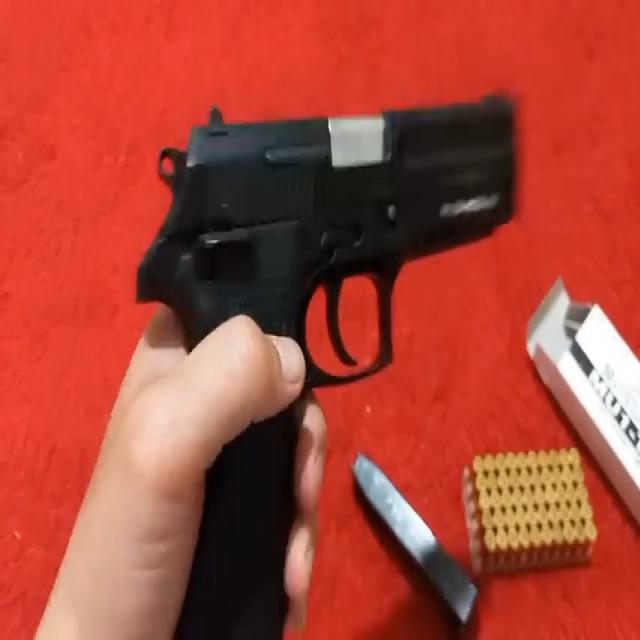handgun: (179, 75, 528, 325)
